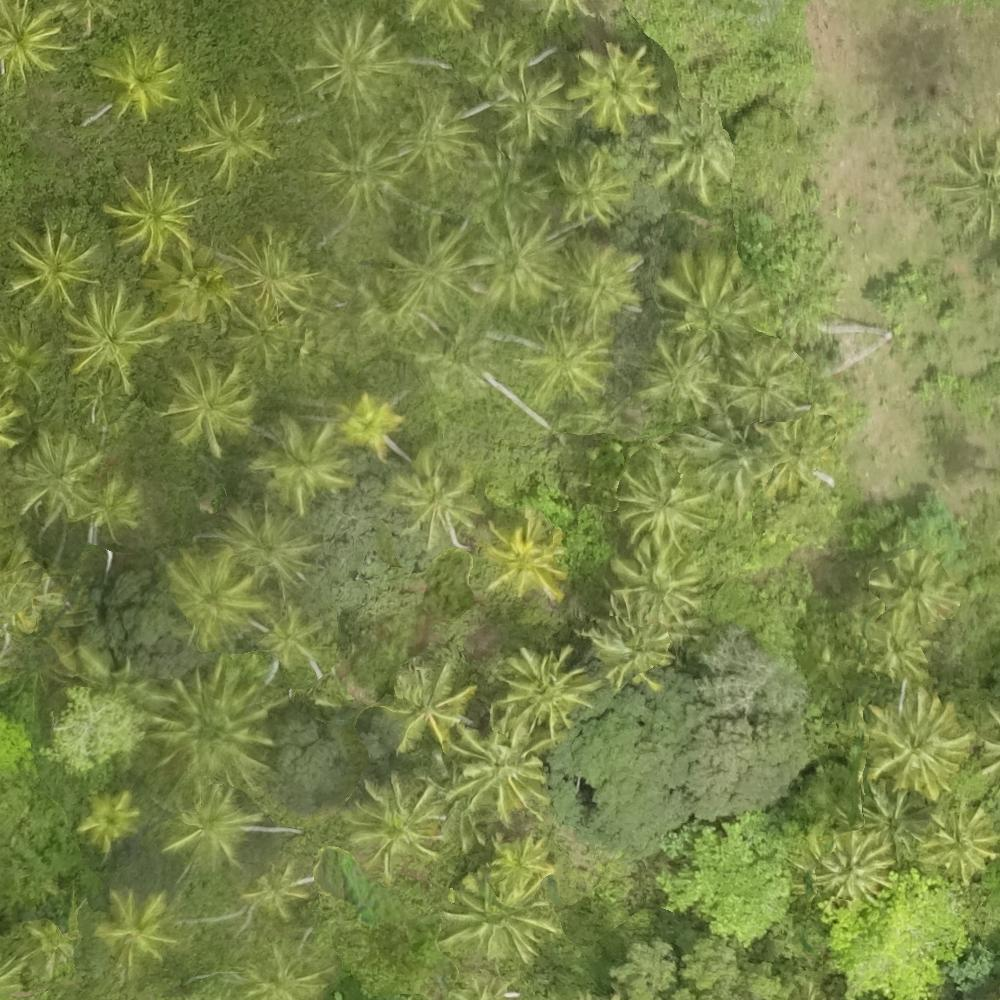Palm: (153, 669, 277, 779), (445, 719, 557, 817), (862, 695, 970, 794), (449, 868, 557, 960), (162, 551, 261, 645), (347, 774, 445, 867), (67, 285, 164, 378), (161, 356, 257, 449), (305, 14, 403, 105), (182, 96, 276, 188), (387, 455, 478, 549), (496, 646, 592, 734), (7, 219, 98, 310), (315, 124, 409, 212), (618, 459, 710, 548), (219, 499, 314, 585), (663, 248, 751, 340), (251, 418, 344, 505), (109, 165, 198, 255), (388, 222, 471, 316), (481, 512, 568, 601), (474, 209, 557, 301), (162, 786, 254, 866), (584, 608, 677, 685), (14, 429, 97, 514), (572, 44, 657, 127), (609, 539, 699, 616), (519, 321, 605, 399), (233, 230, 314, 312), (384, 665, 466, 745), (485, 60, 569, 138), (94, 38, 179, 115), (642, 335, 721, 416), (401, 89, 476, 174), (919, 806, 998, 886), (557, 146, 636, 225), (560, 240, 640, 318), (1, 1, 76, 83), (727, 345, 803, 425), (876, 551, 955, 626), (158, 249, 236, 323), (97, 889, 175, 961), (815, 828, 892, 898), (755, 421, 824, 494), (333, 391, 402, 461), (867, 610, 932, 678), (257, 598, 319, 668), (71, 789, 136, 847), (484, 830, 546, 886), (249, 864, 308, 915)
